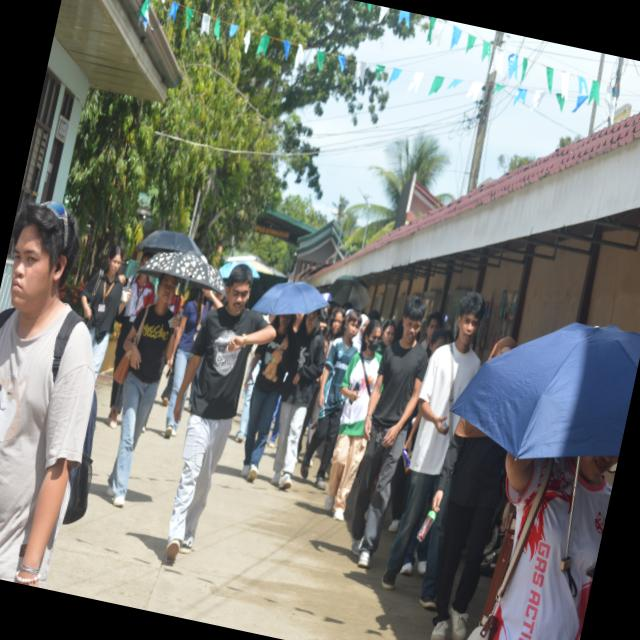person: (0, 201, 95, 587), (166, 264, 276, 561), (382, 292, 485, 590), (492, 455, 618, 639), (352, 298, 427, 568), (431, 419, 506, 639), (107, 275, 176, 507), (325, 319, 381, 520), (301, 311, 362, 490), (272, 311, 325, 489), (242, 315, 294, 482), (165, 288, 211, 438), (81, 246, 130, 379), (114, 274, 154, 369), (377, 320, 395, 355)
